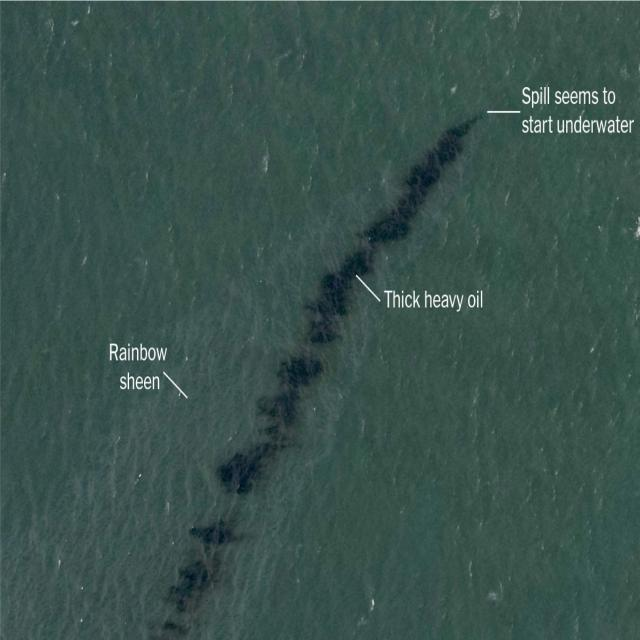oil spill: (218, 119, 476, 494)
